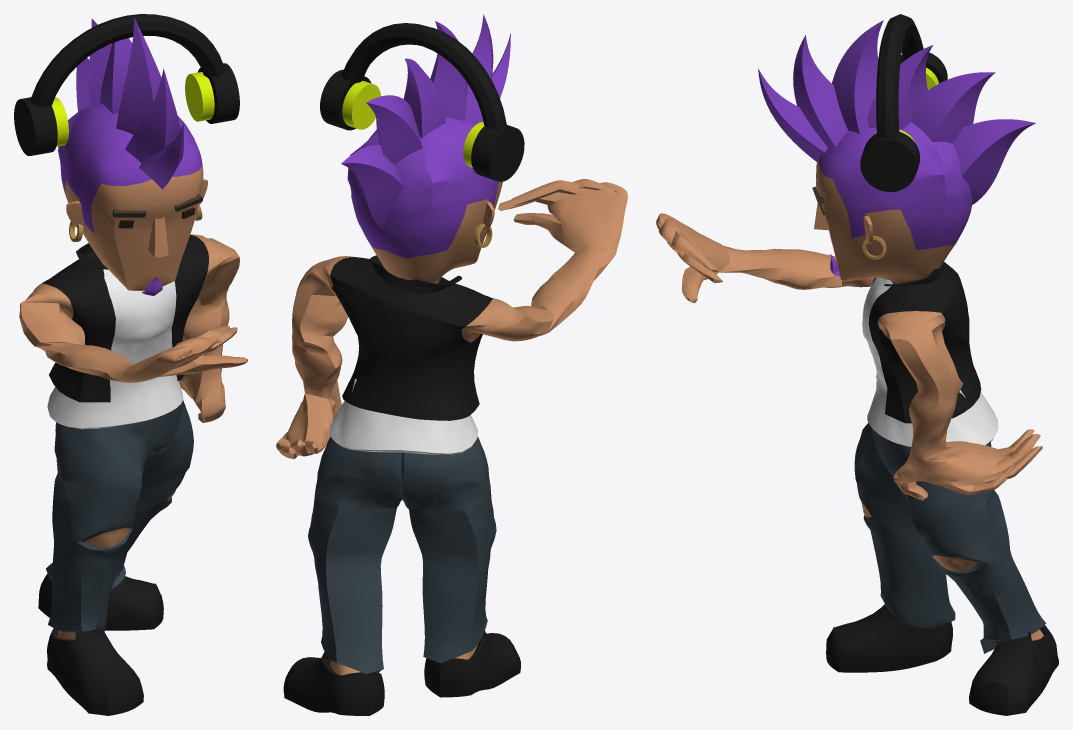
Rendered from av-dj-torcida.glb.
3 renders of one model, left to right at view 1: azimuth 30°, elevation 25°; view 2: azimuth 150°, elevation 25°; view 3: azimuth 270°, elevation 25°, orthographic. The views are drawn at different scales.
Parts seen in each view (by area): view 1: Ad_fone_ouvido_0_0; view 2: Ad_fone_ouvido_0_0; view 3: Ad_fone_ouvido_0_0.
Boxes of the visible parts, x1,y1,x2,y2 form: Ad_fone_ouvido_0_0: [14, 14, 247, 715]; Ad_fone_ouvido_0_0: [276, 14, 627, 715]; Ad_fone_ouvido_0_0: [656, 14, 1058, 715].
Size of the model in its own units: 0.5522 by 1.53 by 0.8492.
Materials: 1 (1 with a texture image).
